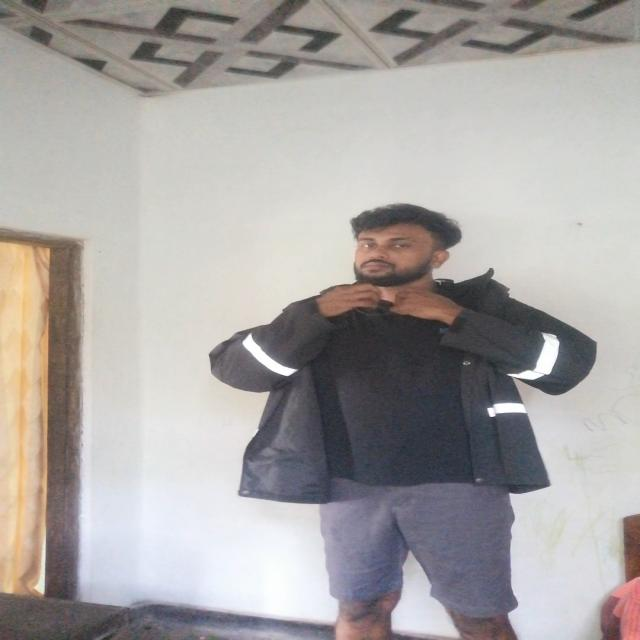Jacket_Wearer: (184, 265, 596, 471)
